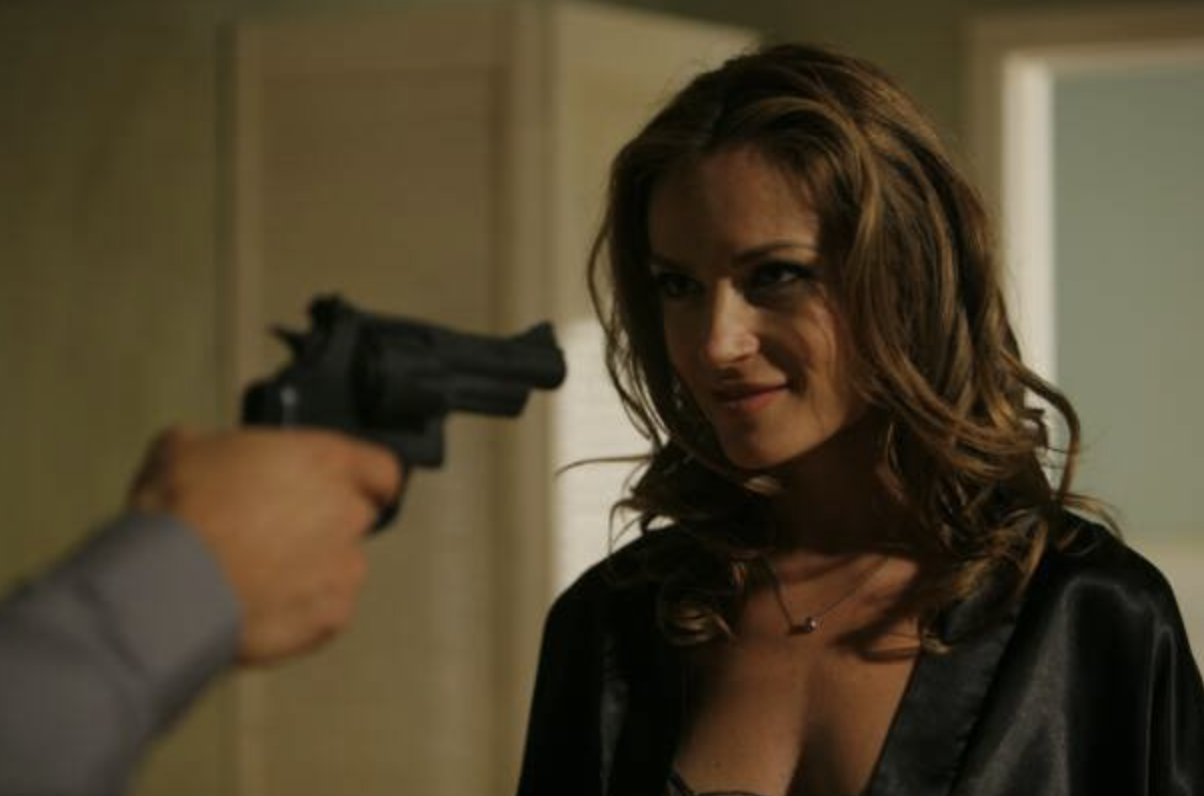gun_008: (228, 282, 573, 540)
